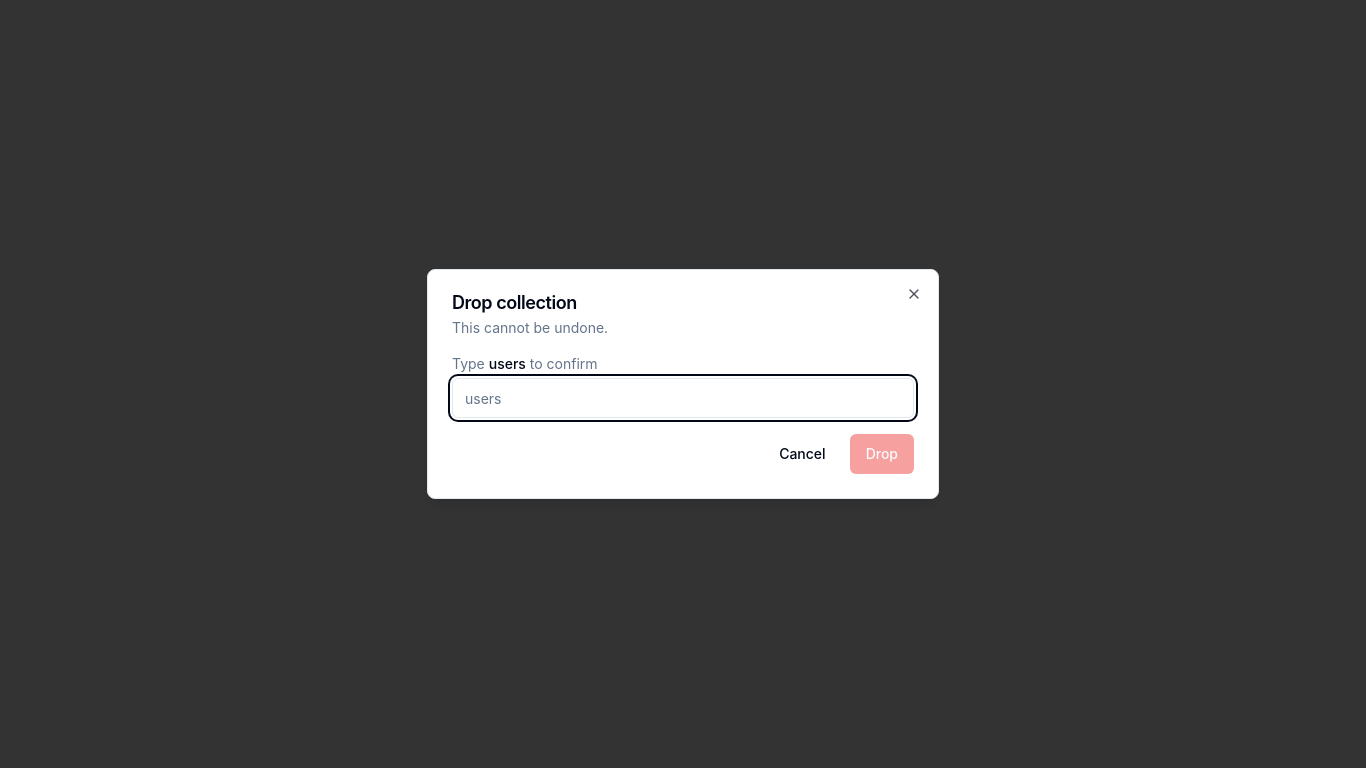
Test case: TypeToConfirmDialog gate › disables the confirm button until the typed name matches
Expected: the button "Drop" is disabled, x1=850 y1=434 x2=914 y2=474
Type "user" into the field labelled "Type users to confirm".
click(683, 398); type("user")  # box x1=452 y1=378 x2=914 y2=418
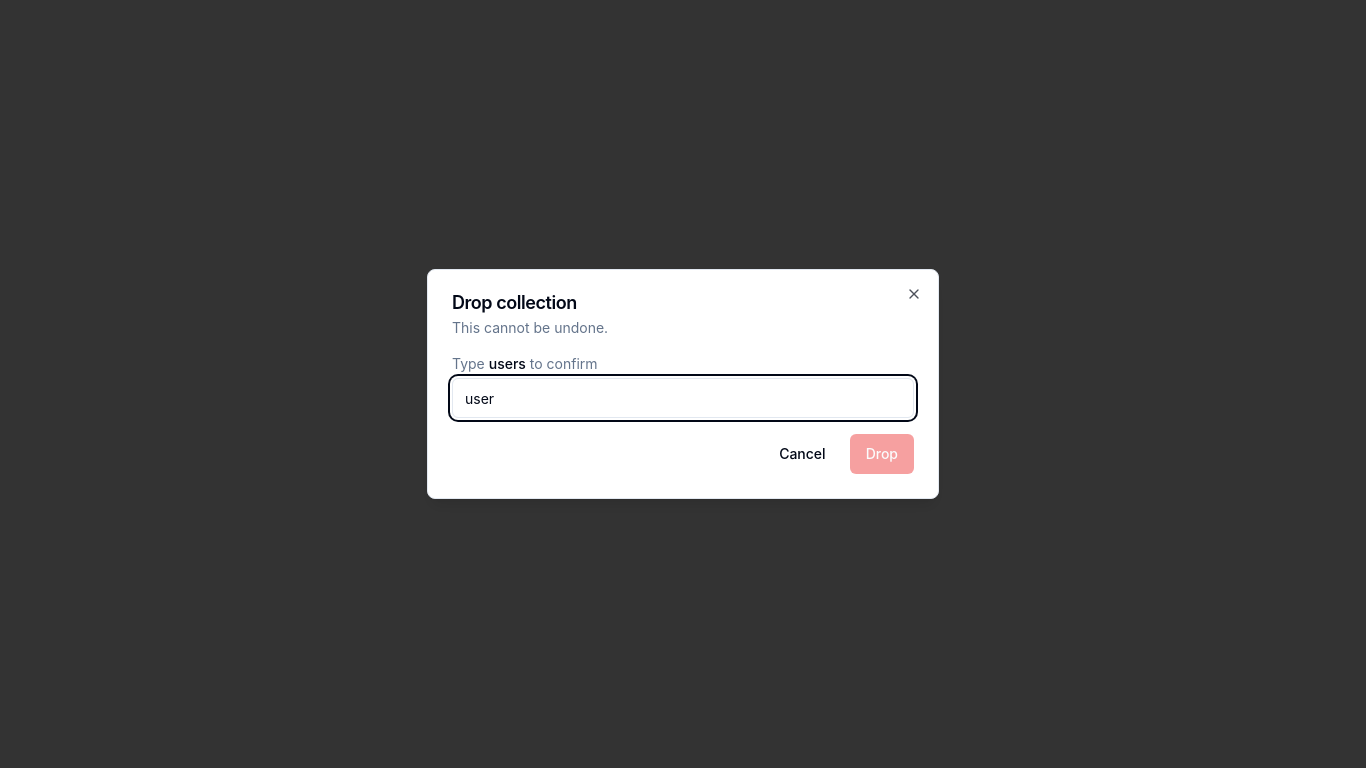
Expected: the button "Drop" is disabled, x1=850 y1=434 x2=914 y2=474
Type "s" into the field labelled "Type users to confirm".
click(683, 398); type("s")  # box x1=452 y1=378 x2=914 y2=418
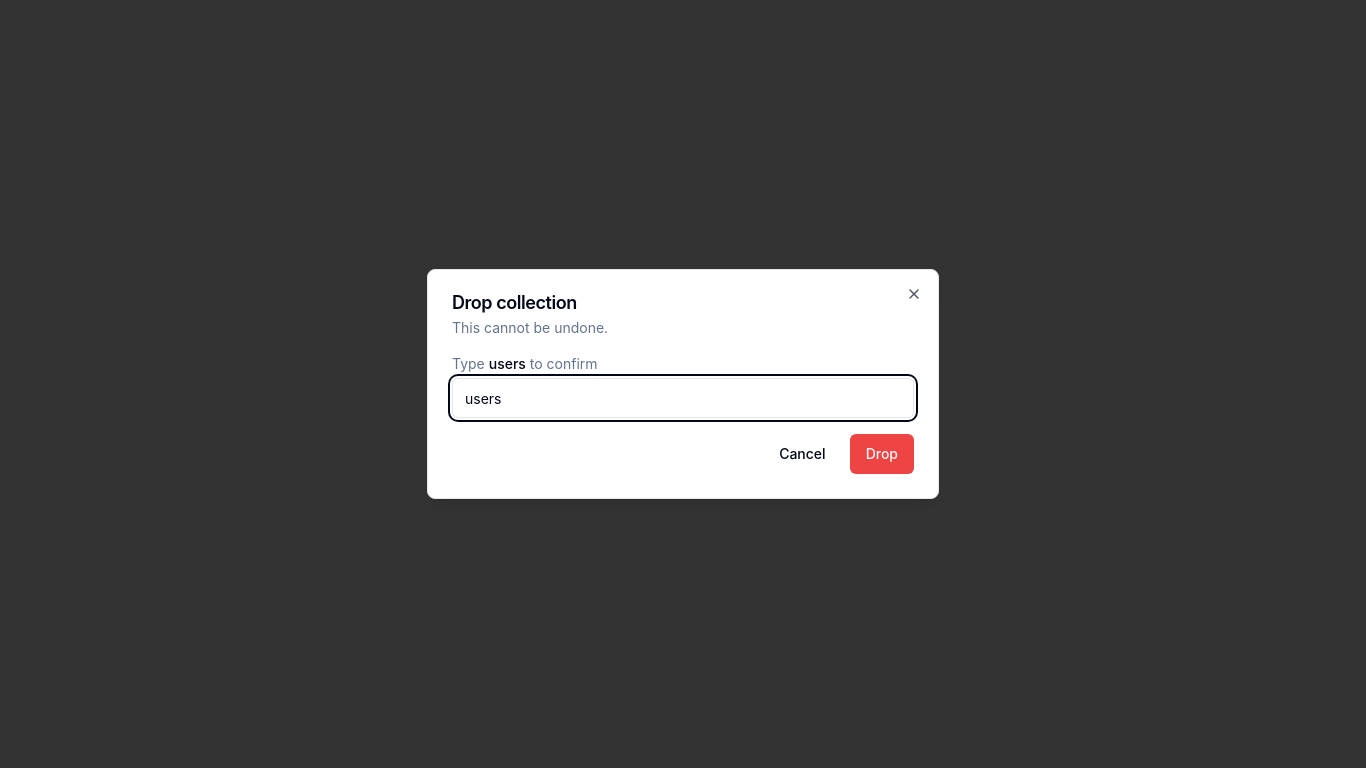
Now the button "Drop" is enabled, box x1=850 y1=434 x2=914 y2=474
